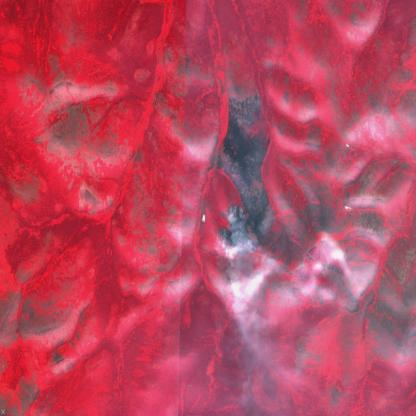fire: (215, 201, 278, 262)
